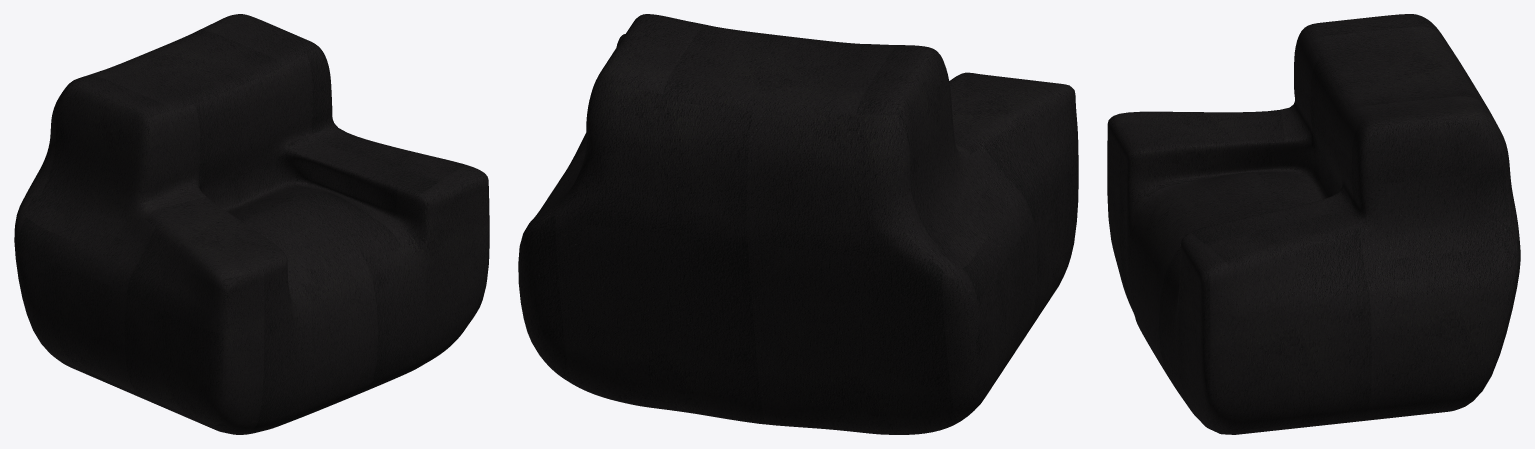
File: pátzcuaro.gltf
The picture shows the model from 3 angles, left to right: view 1: azimuth 30°, elevation 25°; view 2: azimuth 150°, elevation 25°; view 3: azimuth 270°, elevation 25°; orthographic projection. The views are drawn at different scales.
Parts seen in each view (by area): view 1: main; view 2: main; view 3: main.
Boxes of the visible parts, <box> form: main: <box>14,14,489,434</box>; main: <box>518,14,1078,434</box>; main: <box>1107,14,1520,434</box>.
Size of the model in its own units: 5.7 by 4 by 5.12.
Materials: 1 (1 with a texture image).
